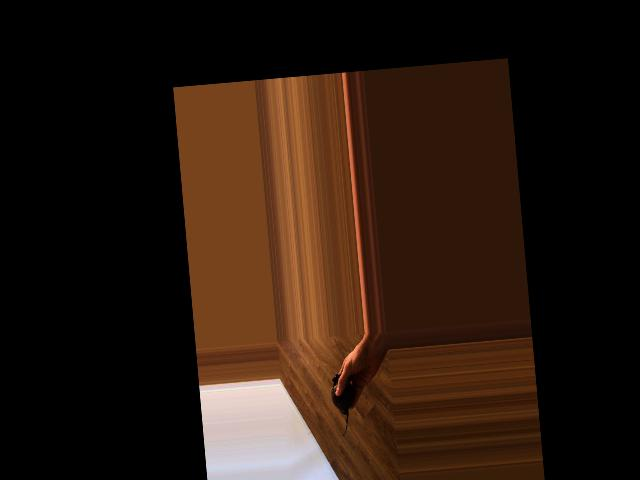beet: (329, 372, 357, 437)
